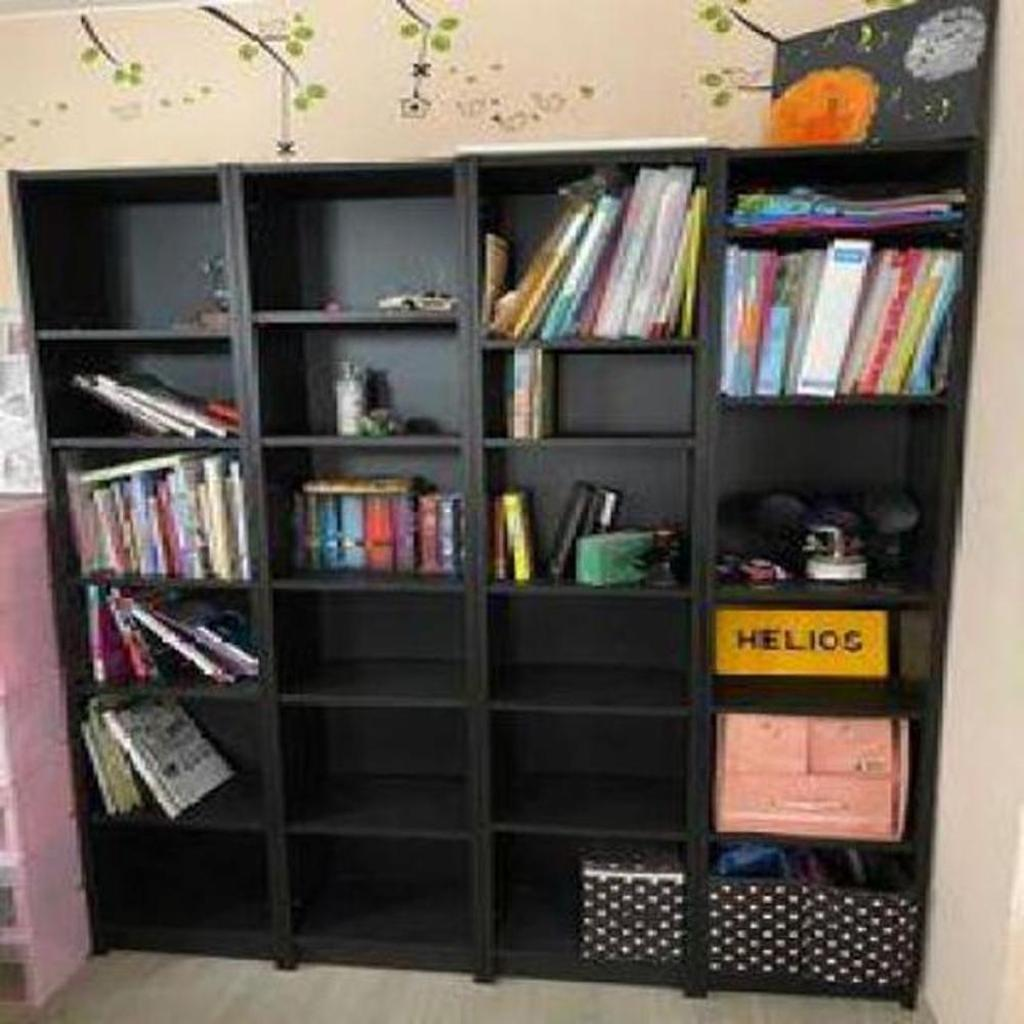lamp: (1, 136, 991, 1014)
